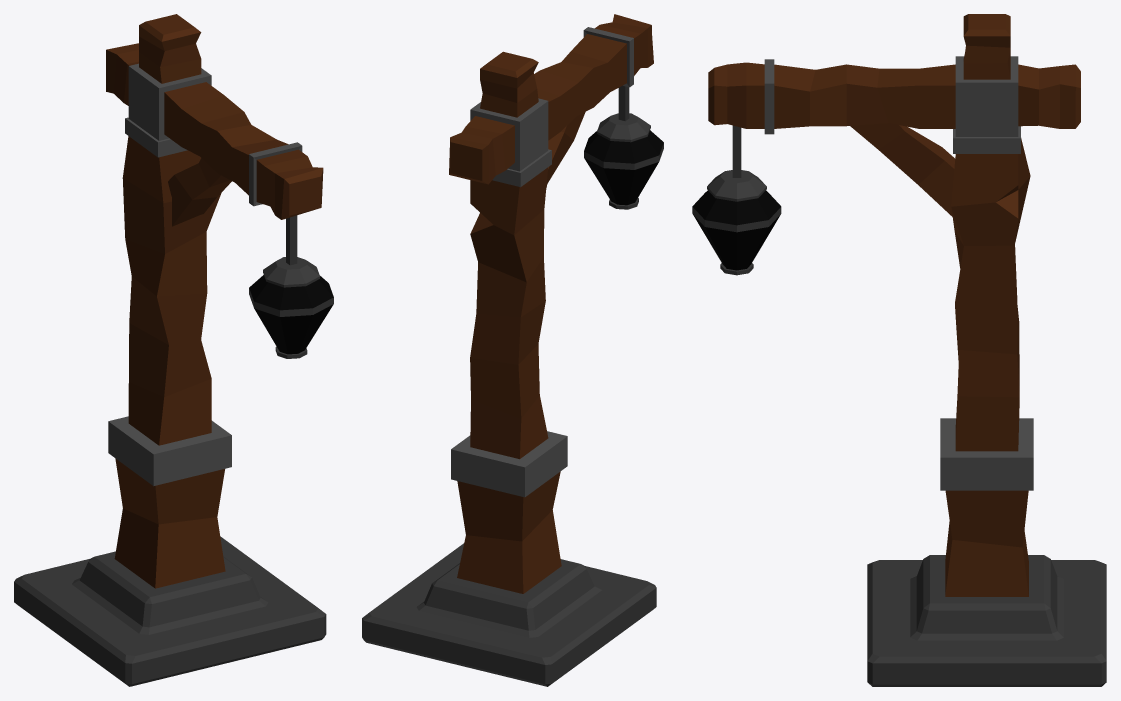
The model's file is StreetLantern.fbx.
3 views of the same model, side by side, from view 1: azimuth 30°, elevation 25°; view 2: azimuth 150°, elevation 25°; view 3: azimuth 270°, elevation 25° (orthographic). The views are drawn at different scales.
Visible parts, largest first — view 1: Lantern; view 2: Lantern; view 3: Lantern.
Boxes of the visible parts, left/top/right/bottom form: Lantern: left=14, top=14, right=333, bottom=686; Lantern: left=362, top=14, right=663, bottom=686; Lantern: left=692, top=14, right=1106, bottom=686.
Size of what is drawn, in the model's own units: 400 by 1138 by 693.
